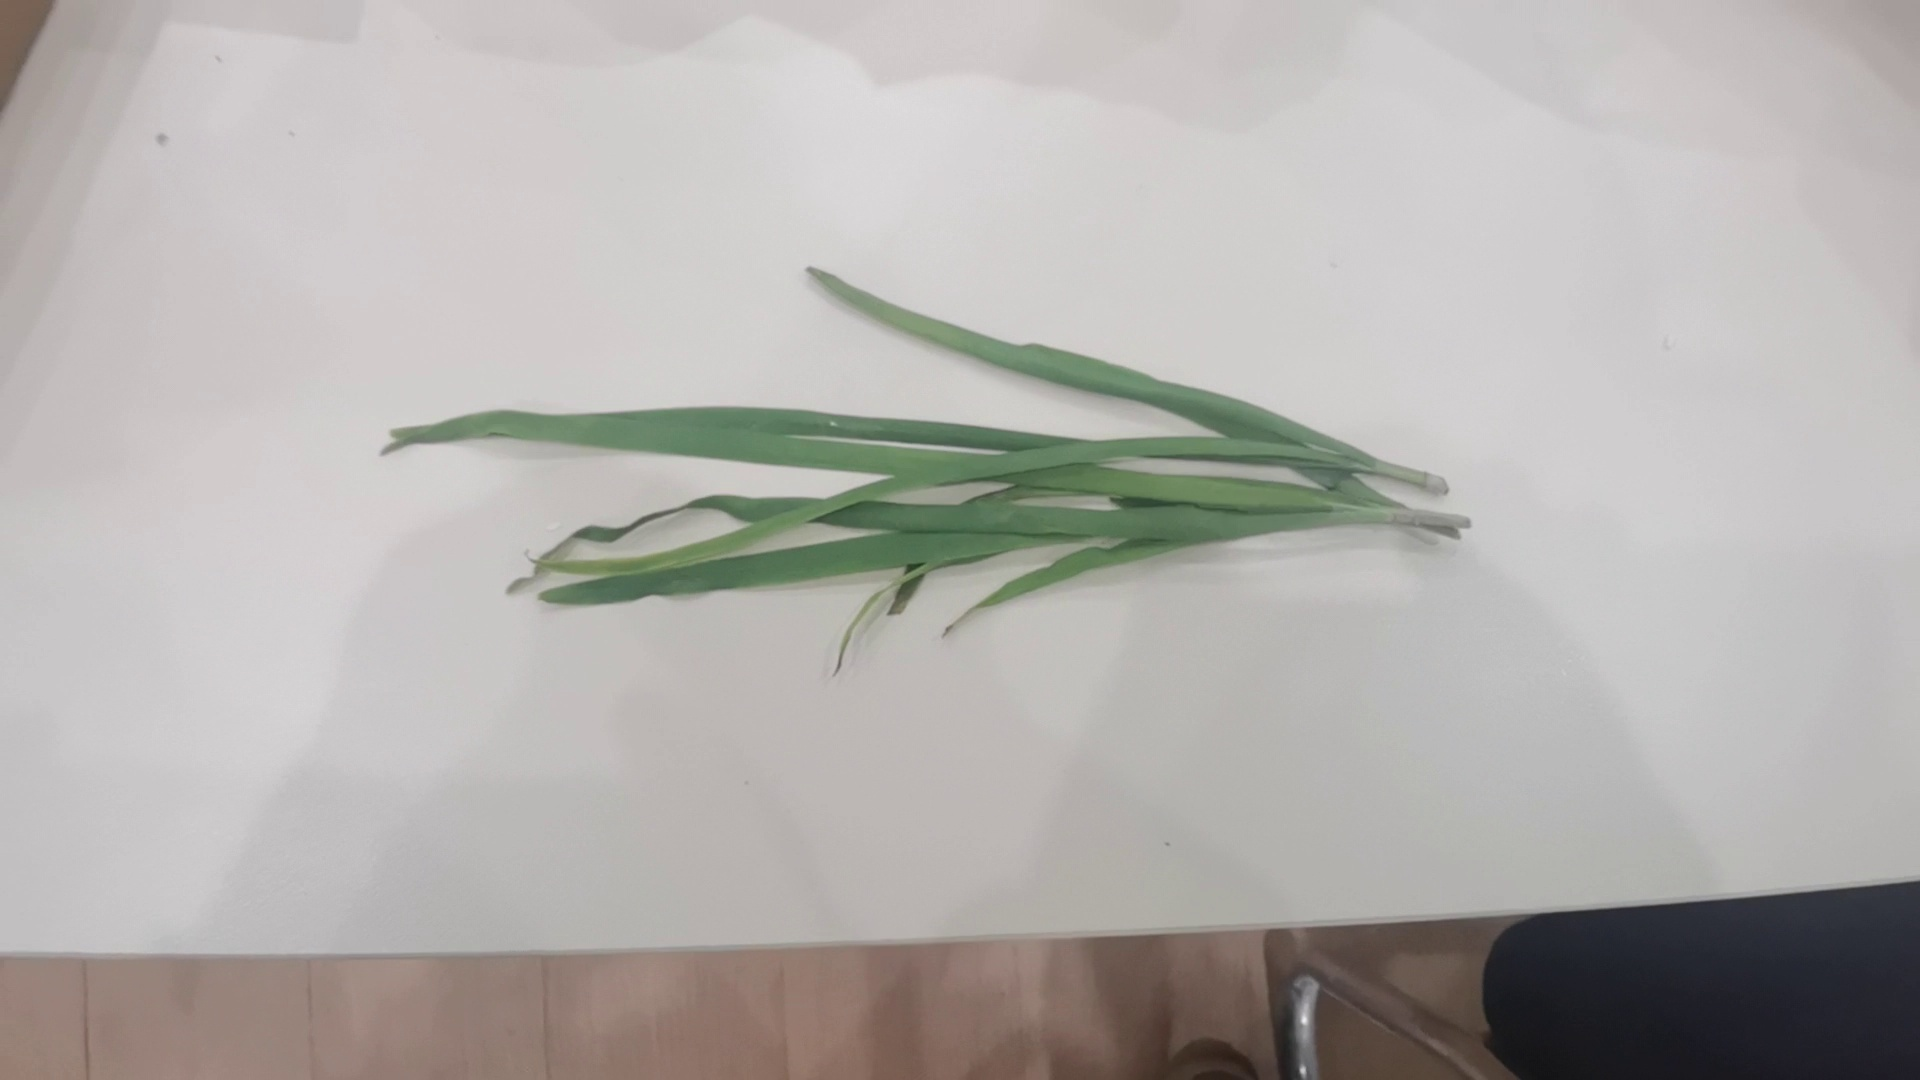chives: (356, 258, 1481, 683)
